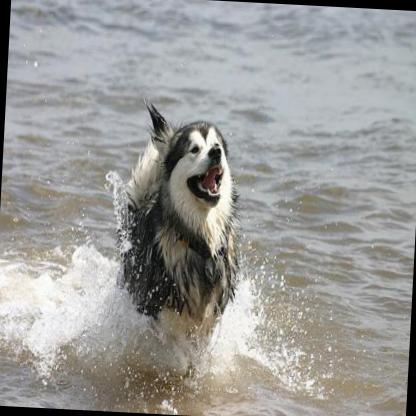malamute: (110, 93, 248, 389)
